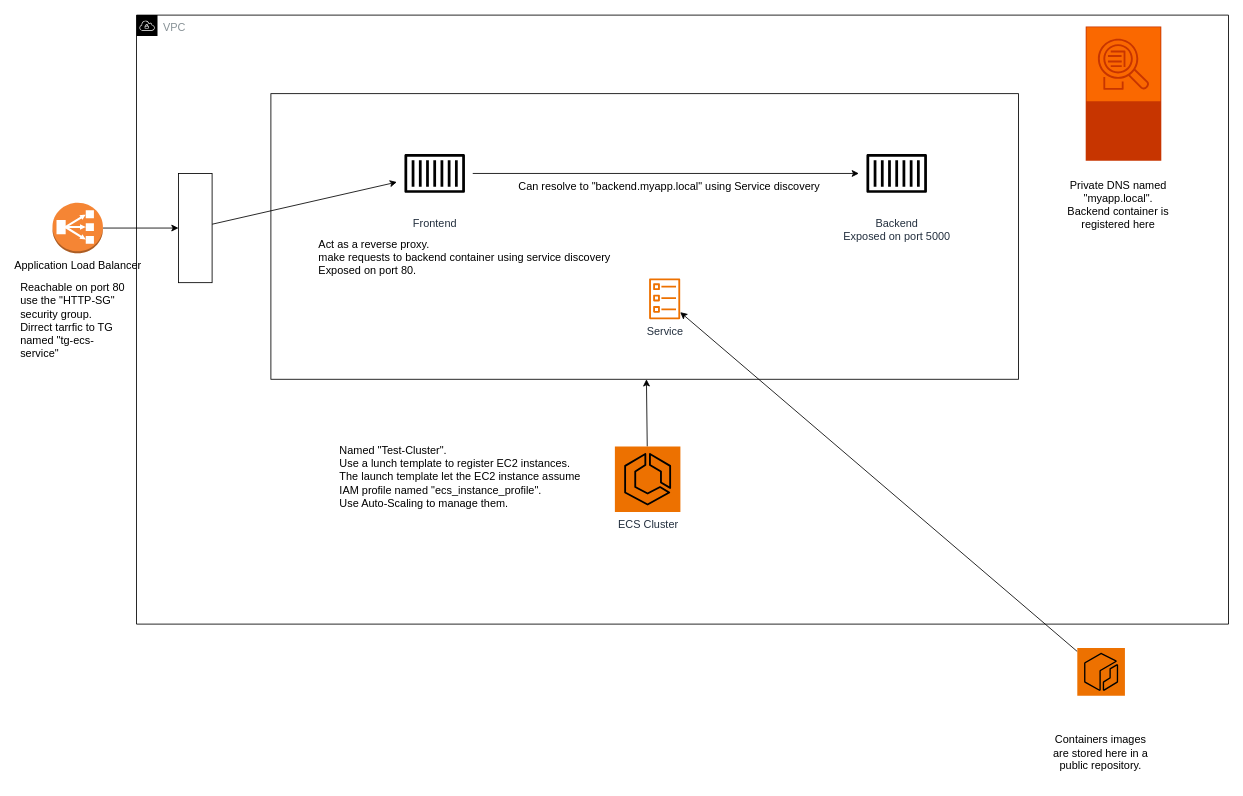
This 1243x796 diagram has some shape labels left out. The box of each missing label's shape, as (x1, y1, x2, y2) in pixels:
AWS Application Discovery Service: (1085, 26, 1161, 161)
Elastic Containers Registry: (1076, 647, 1125, 696)
TG- GROUP: (178, 173, 212, 283)
